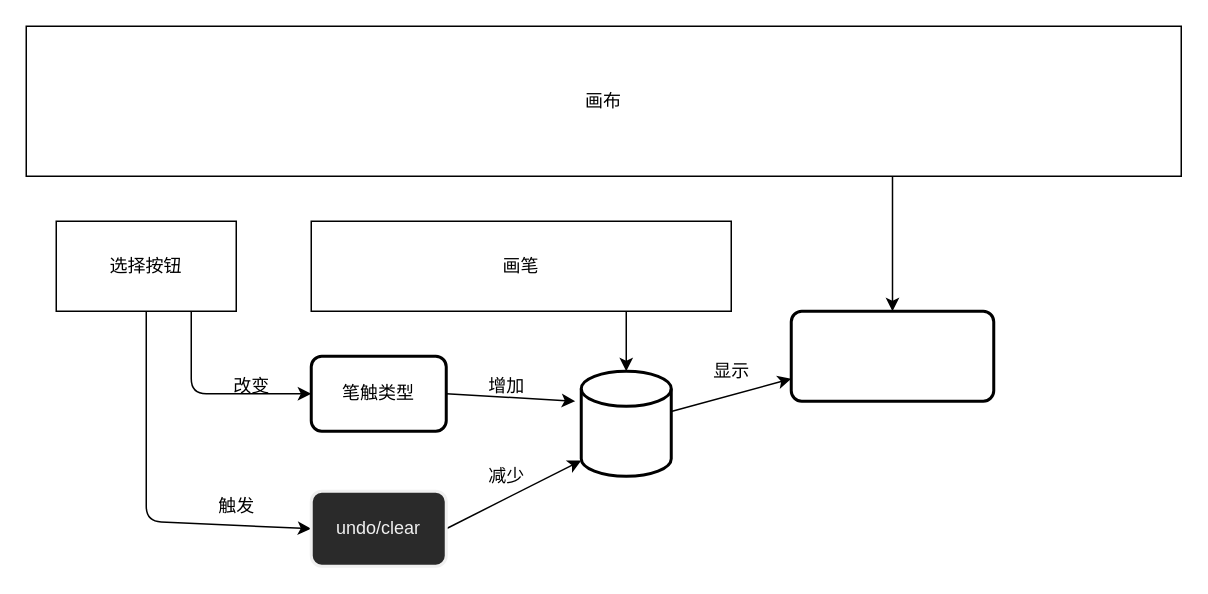
This 1208x594 diagram has some shape labels left out. The centre of each missing label's shape, as x and y in pixels:
"canvas对象" belongs at point (891, 355).
"绘制历史" belongs at point (625, 423).
